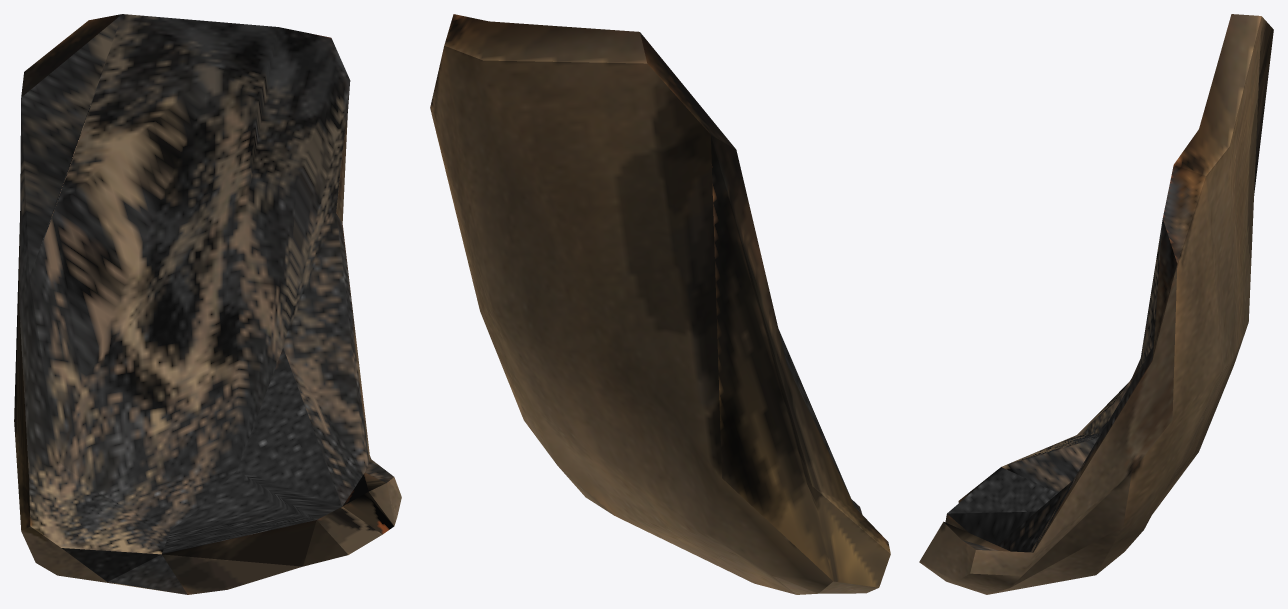
The model's file is broekn_road_hole_2.fbx.
3 views of the same model, side by side, from view 1: azimuth 30°, elevation 25°; view 2: azimuth 150°, elevation 25°; view 3: azimuth 270°, elevation 25° (orthographic). The views are drawn at different scales.
Visible parts, largest first — view 1: Broken Road 2; view 2: Broken Road 2; view 3: Broken Road 2.
Part boxes in pixels (left/top/right/bottom): Broken Road 2: left=14, top=14, right=401, bottom=594; Broken Road 2: left=430, top=14, right=890, bottom=594; Broken Road 2: left=919, top=14, right=1273, bottom=594.
Bounding box in the file's own units: 449 × 603 × 355.
Materials: 1 (1 with a texture image).
